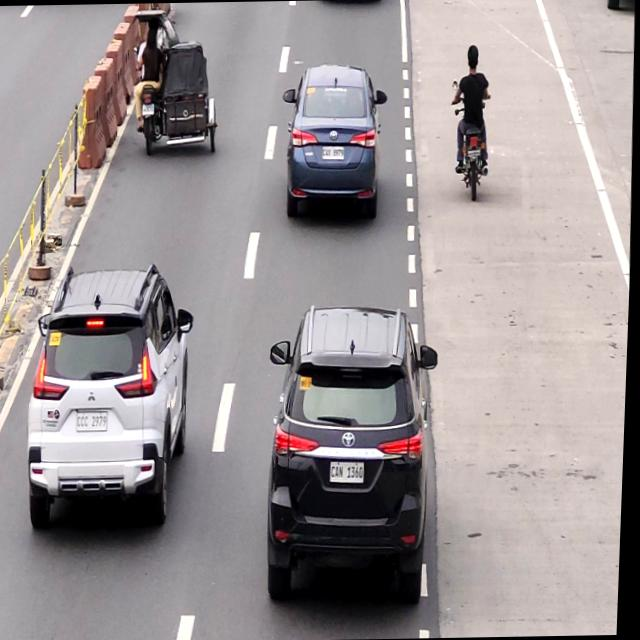Car: (270, 308, 439, 602), (25, 266, 196, 520), (284, 65, 382, 212)
License-Plate: (333, 459, 368, 486), (76, 408, 112, 432), (321, 142, 347, 160), (140, 102, 156, 116)
Motorcycle: (450, 41, 492, 206)
Tricycle: (128, 9, 220, 152)
